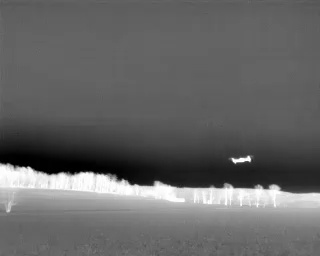DRONE: (226, 150, 256, 169)
